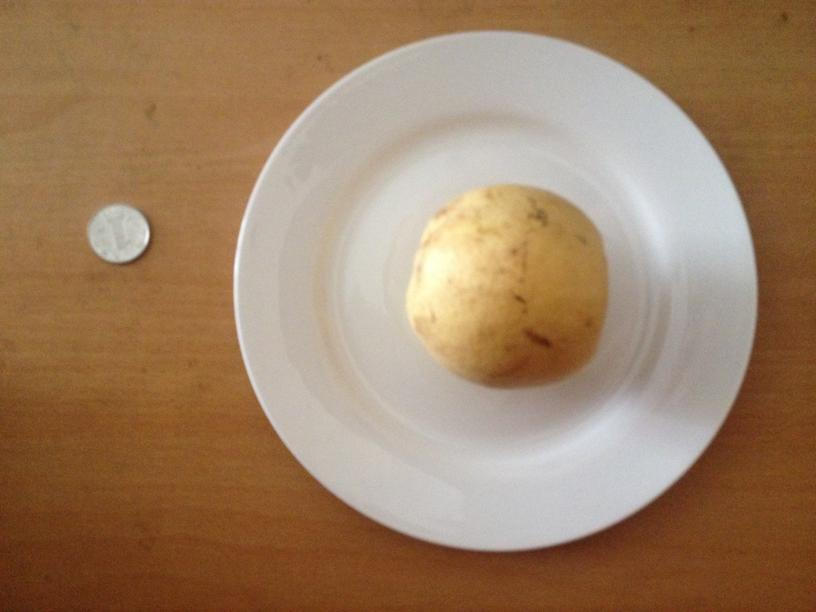coin: (85, 201, 151, 265)
pear: (399, 185, 608, 390)
